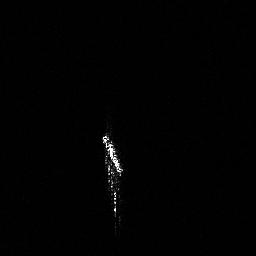ship: (99, 129, 127, 219)
